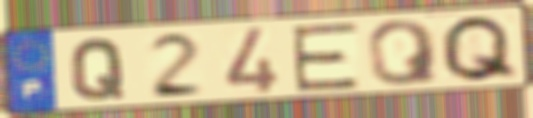2: (142, 32, 207, 100)
4: (220, 23, 283, 97)
E: (287, 20, 362, 93)
Q: (437, 13, 522, 84), (364, 18, 443, 88), (68, 36, 127, 103)
